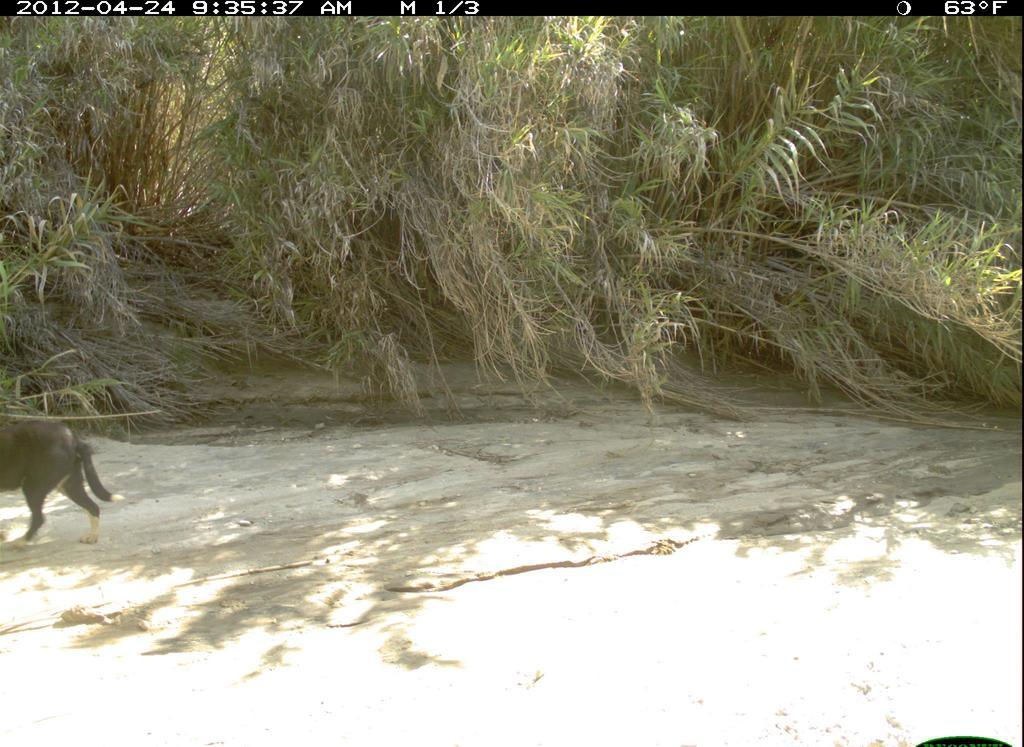dog: (1, 393, 129, 556)
